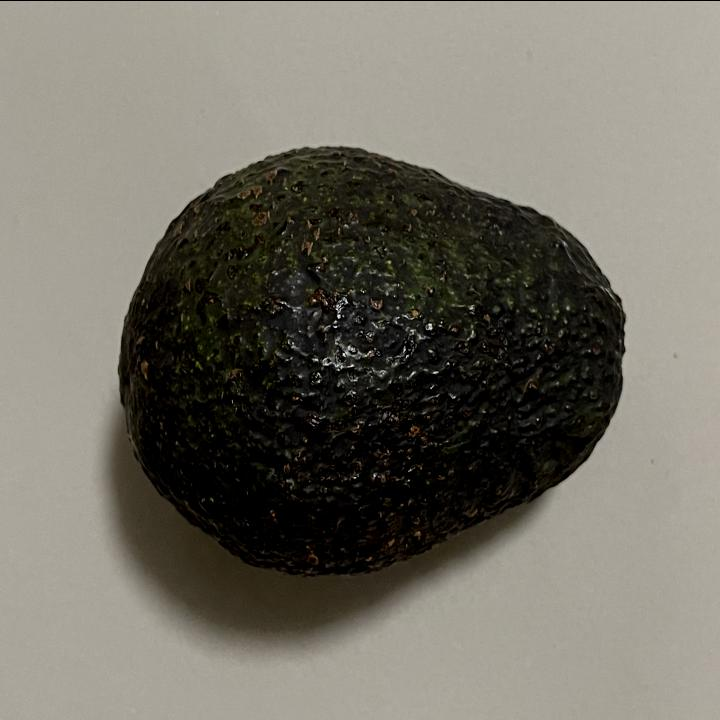Level2: (113, 134, 636, 589)
